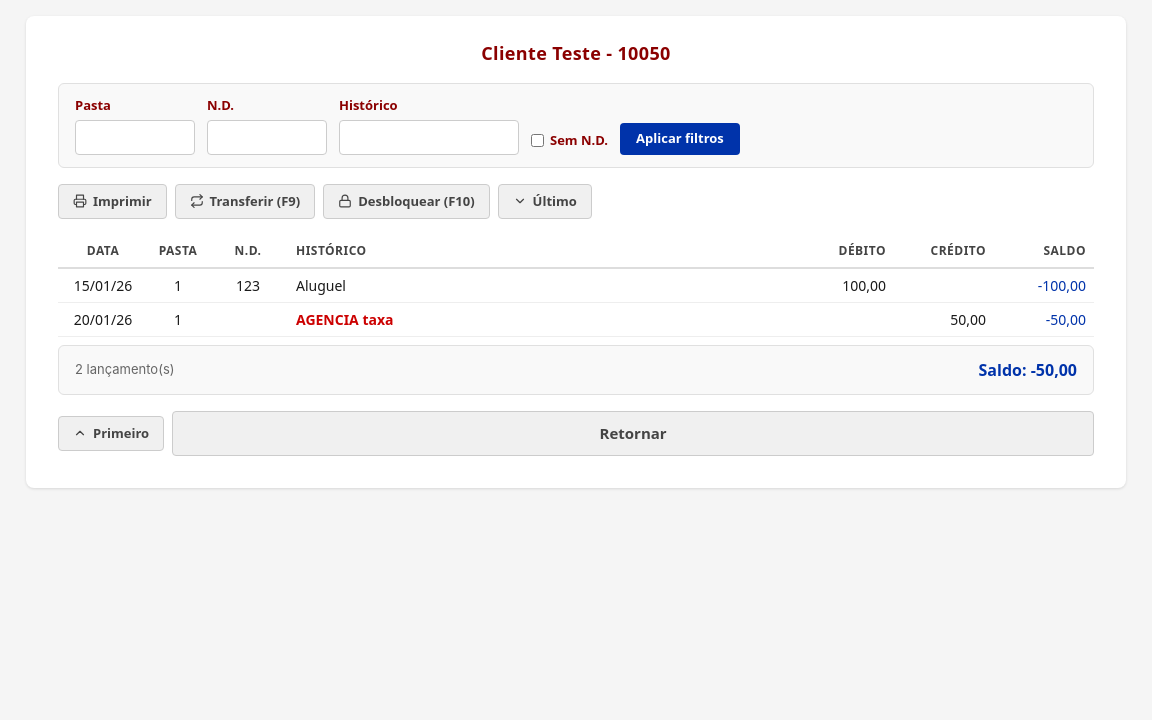
Test: Extrato › 5. desbloqueio com senha inválida mostra erro
Expected: the text "Aluguel" is shown, left=296, top=276, right=346, bottom=295
Click the button "Desbloquear (F10)" at (406, 201), box left=323, top=184, right=490, bottom=219
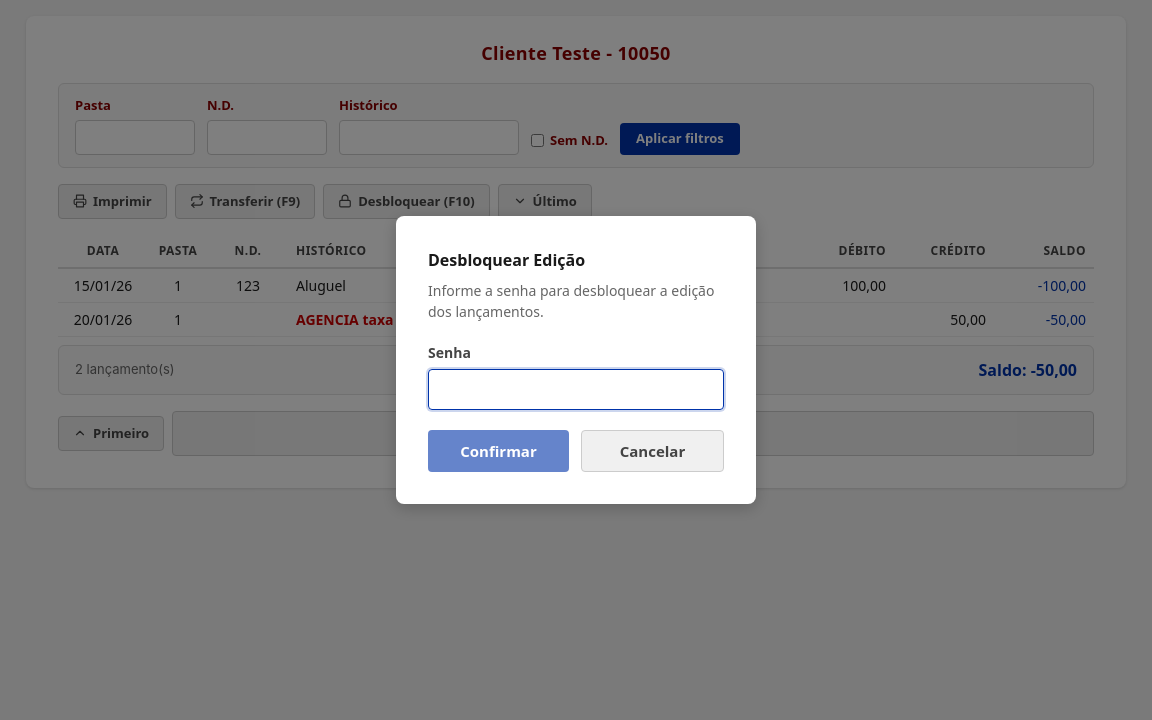
Expected: the heading "Desbloquear Edição" is shown, left=428, top=249, right=585, bottom=271
Type "errada" into the password field labelled "Senha" at (576, 389), box left=428, top=369, right=724, bottom=410
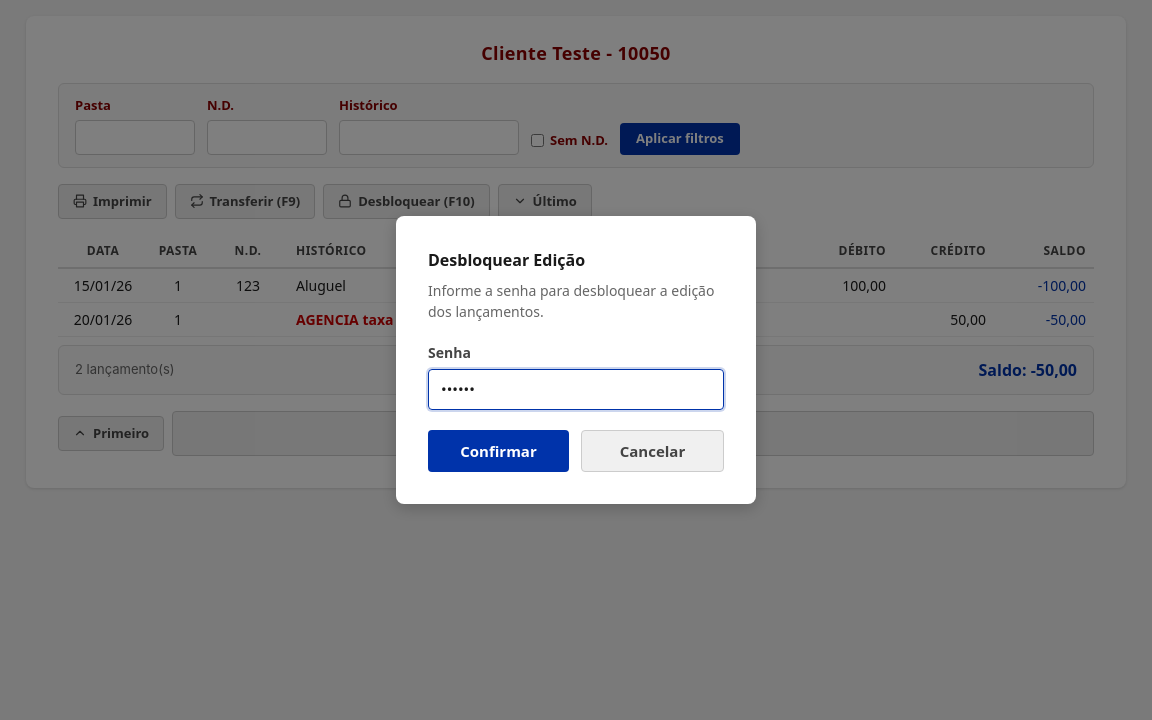
Click the button "Confirmar" at (498, 451), box left=428, top=430, right=569, bottom=472
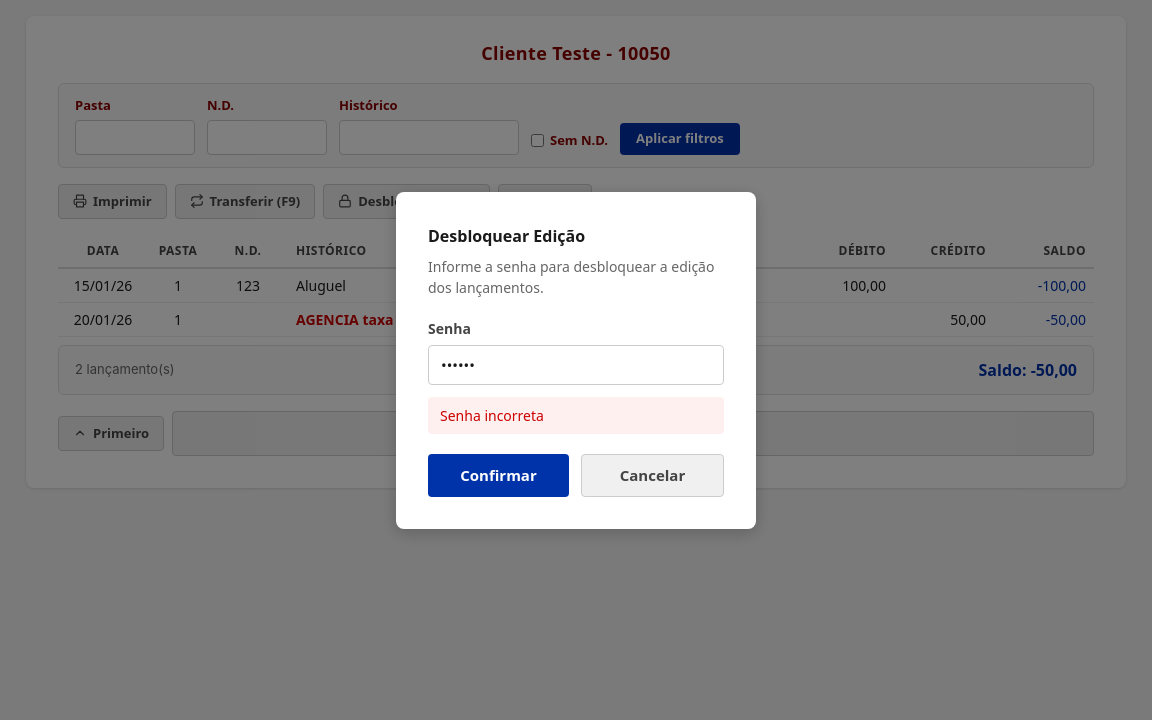
Expected: the text "Senha incorreta" is shown, left=428, top=397, right=724, bottom=434
